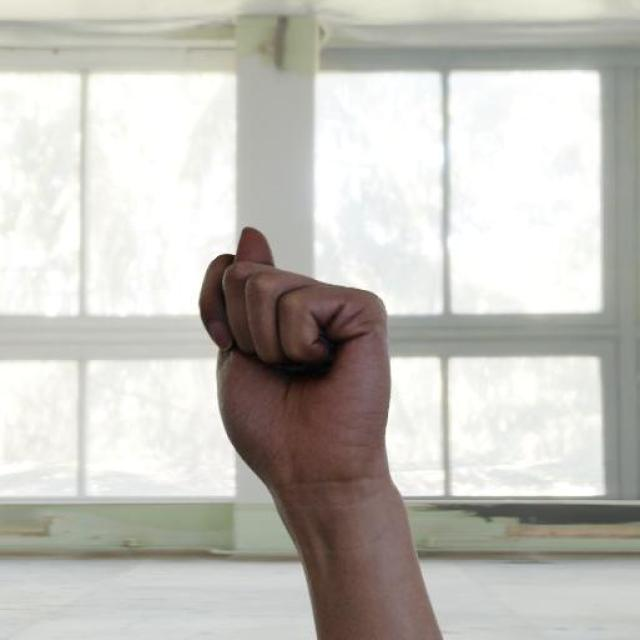T: (192, 223, 404, 498)
